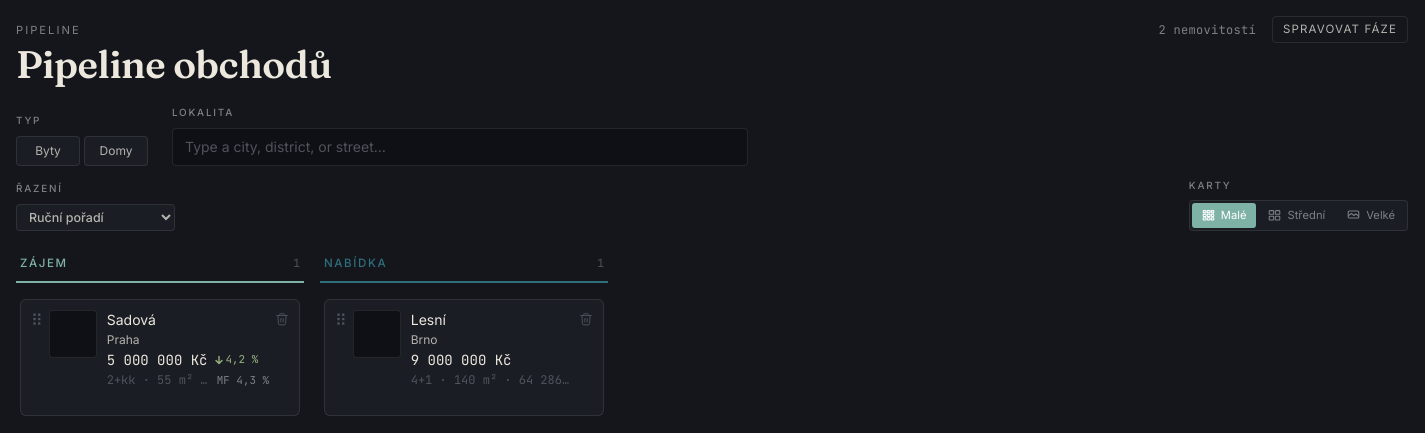
it: <Pipeline> board › filters the board by property type
Check: the link "Sadová" is shown, box top-left (107, 310), bottom-right (156, 328)
Check: the link "Lesní" is shown, box top-left (411, 310), bottom-right (446, 328)
Filter to Domy → only the dům card remains.
Click the button "Domy" at (116, 151), box top-left (84, 136), bottom-right (148, 166)
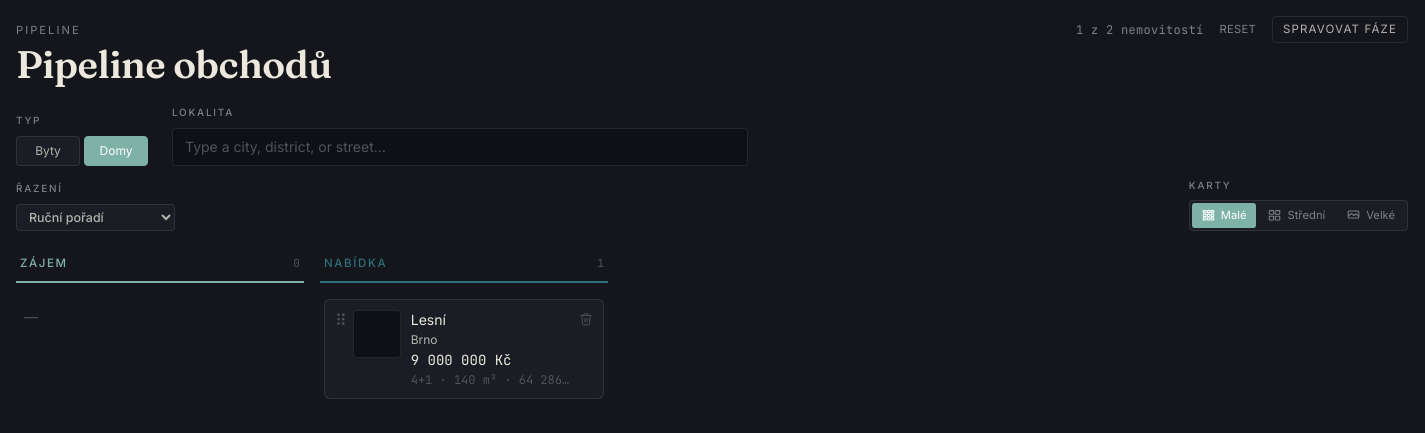
Check: the link "Lesní" is shown, box top-left (411, 310), bottom-right (446, 328)
Check: the link "Sadová" is gone
